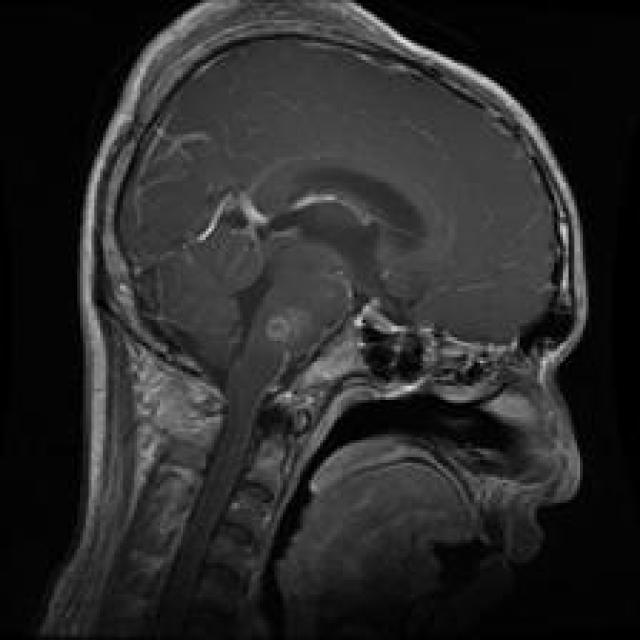glioma_tumor: (252, 288, 340, 385)
